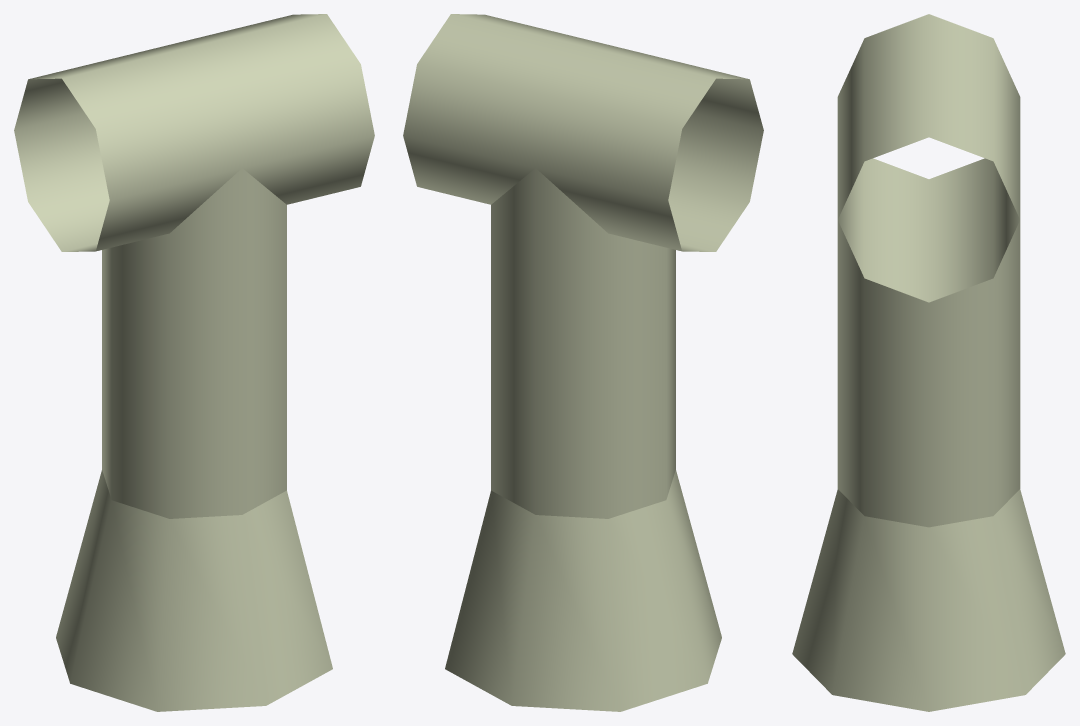
Rendered from Eridani_Antenna_4_Pivot.obj.
The picture shows the model from 3 angles, left to right: view 1: azimuth 30°, elevation 25°; view 2: azimuth 150°, elevation 25°; view 3: azimuth 270°, elevation 25°; orthographic projection. The views are drawn at different scales.
Visible parts, largest first — view 1: Eridani_Antenna_4_Pivot; view 2: Eridani_Antenna_4_Pivot; view 3: Eridani_Antenna_4_Pivot.
Boxes of the visible parts, bbox=[...] form: Eridani_Antenna_4_Pivot: bbox=[14, 14, 374, 711]; Eridani_Antenna_4_Pivot: bbox=[403, 14, 763, 711]; Eridani_Antenna_4_Pivot: bbox=[792, 14, 1065, 711].
Bounding box in the file's own units: 0.1 × 0.2188 × 0.0938.
